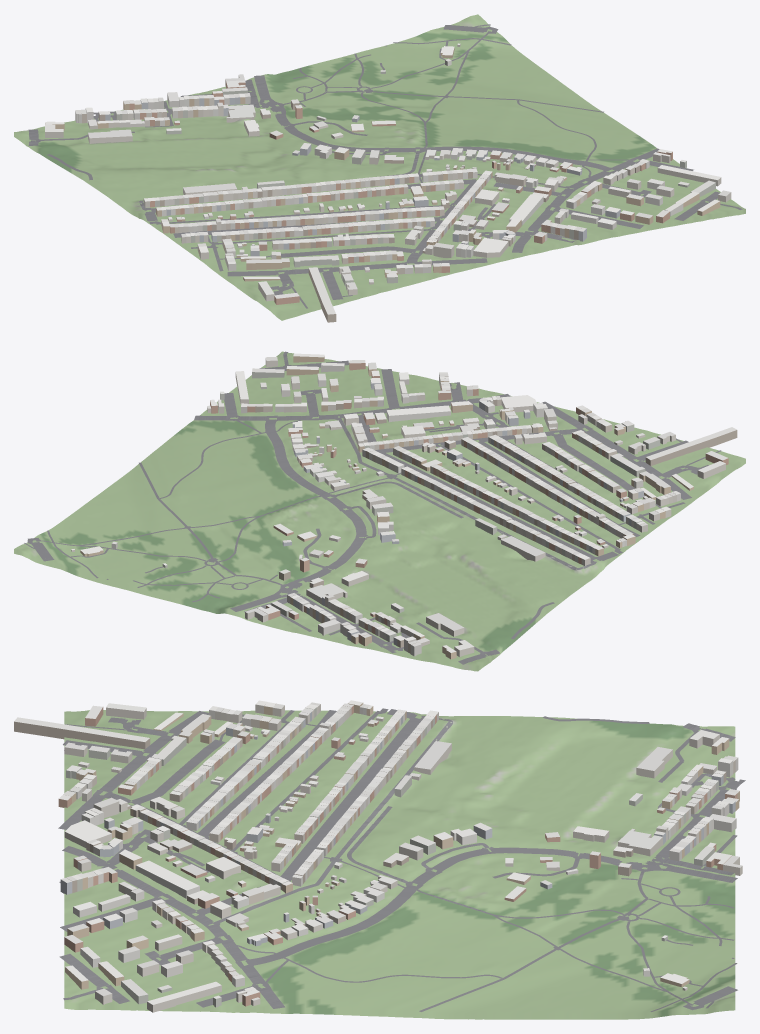
3 renders of one model, top to bottom at view 1: azimuth 30°, elevation 25°; view 2: azimuth 150°, elevation 25°; view 3: azimuth 270°, elevation 25°, orthographic. The views are drawn at different scales.
Visible parts, largest first — view 1: prim0, prim1, prim2; view 2: prim0, prim1, prim2; view 3: prim0, prim1, prim2.
Boxes of the visible parts, x1,y1,x2,y2 form: prim0: (14,14,745,320); prim1: (45,43,731,322); prim2: (28,24,742,308); prim0: (14,351,745,671); prim1: (71,353,737,659); prim2: (24,351,721,664); prim0: (64,710,735,1019); prim1: (14,700,742,1012); prim2: (58,708,745,1011).
Bounding box in the file's own units: 529 × 39.59 × 558.
